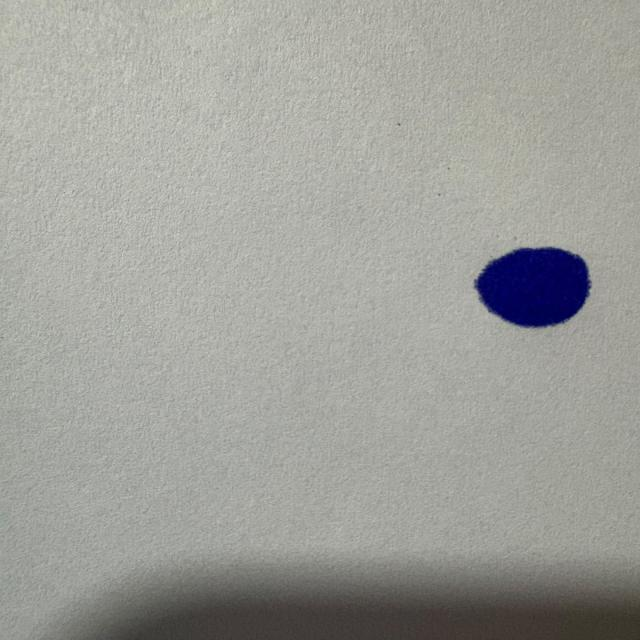Circle: (468, 242, 594, 334)
